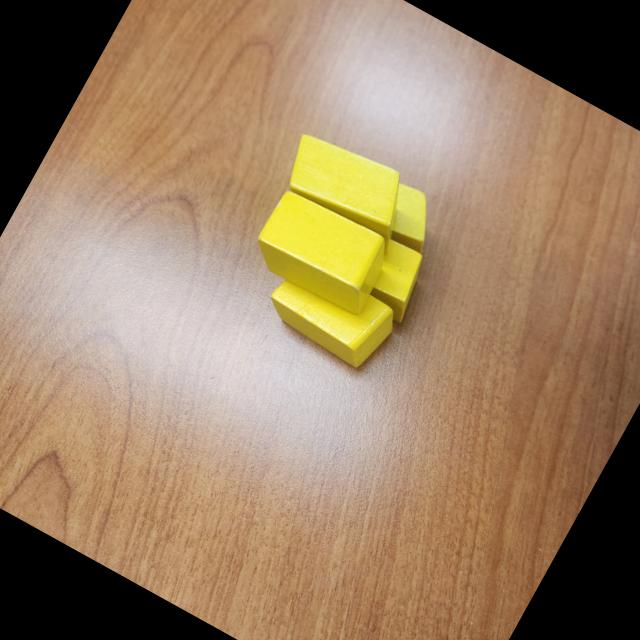yellow: (245, 185, 398, 322), (274, 123, 420, 246), (259, 253, 403, 375), (351, 234, 437, 326), (371, 178, 450, 256)
